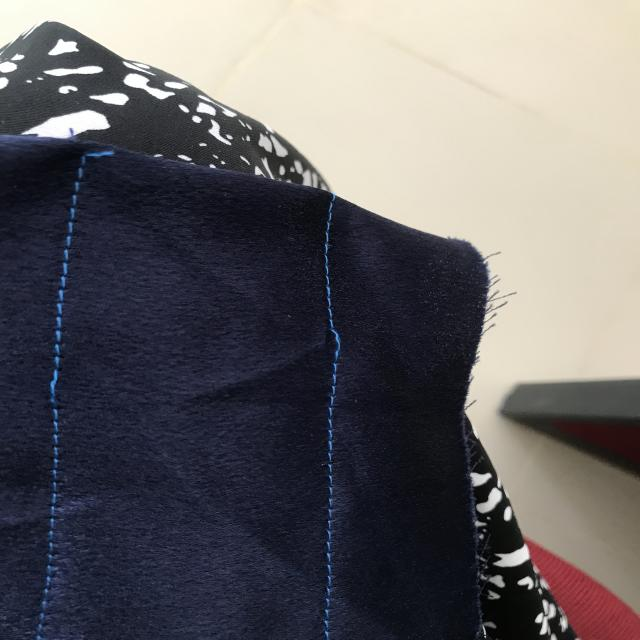good: (57, 193, 83, 328), (324, 413, 348, 553)
skip: (35, 366, 78, 419), (321, 319, 349, 373)
